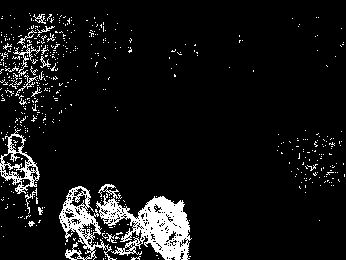person: (3, 128, 45, 230), (61, 183, 100, 260), (102, 184, 141, 260)
